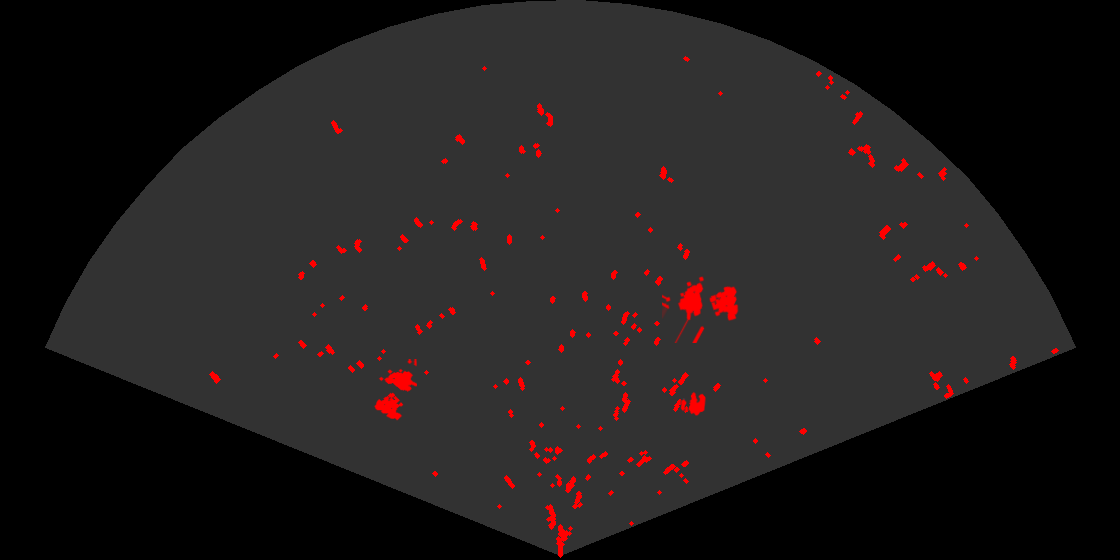ball: (679, 390, 707, 417)
cage: (662, 275, 740, 343), (373, 359, 417, 422)
